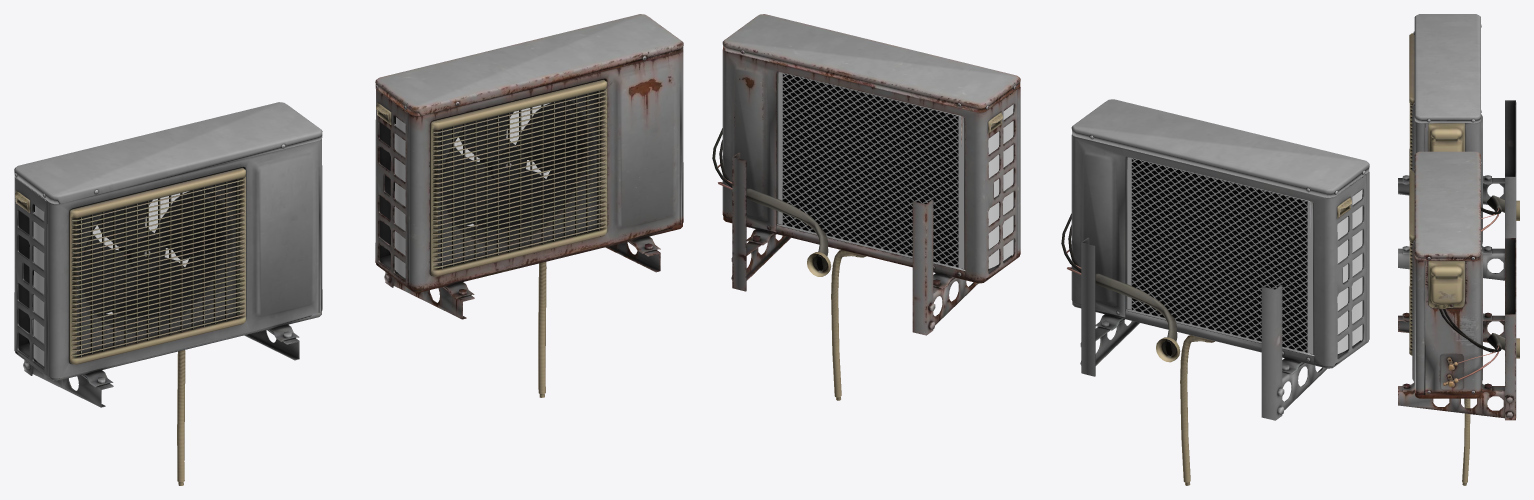
File: exterior_aircon_unit_1k.glb
3 views of the same model, side by side, from view 1: azimuth 30°, elevation 25°; view 2: azimuth 150°, elevation 25°; view 3: azimuth 270°, elevation 25° (orthographic). The views are drawn at different scales.
Parts seen in each view (by area): view 1: exterior_aircon_unit, exterior_aircon_unit_rusted; view 2: exterior_aircon_unit, exterior_aircon_unit_rusted; view 3: exterior_aircon_unit_rusted, exterior_aircon_unit.
Part boxes in pixels (box(x1,y1,x2,y2)): exterior_aircon_unit: box(14, 102, 322, 485); exterior_aircon_unit_rusted: box(375, 14, 683, 397); exterior_aircon_unit: box(1061, 99, 1369, 485); exterior_aircon_unit_rusted: box(712, 14, 1020, 400); exterior_aircon_unit_rusted: box(1398, 151, 1519, 485); exterior_aircon_unit: box(1398, 14, 1519, 280).
Bounding box in the file's own units: 1.8 × 0.9279 × 0.3742.
4 materials, 4 textured.
